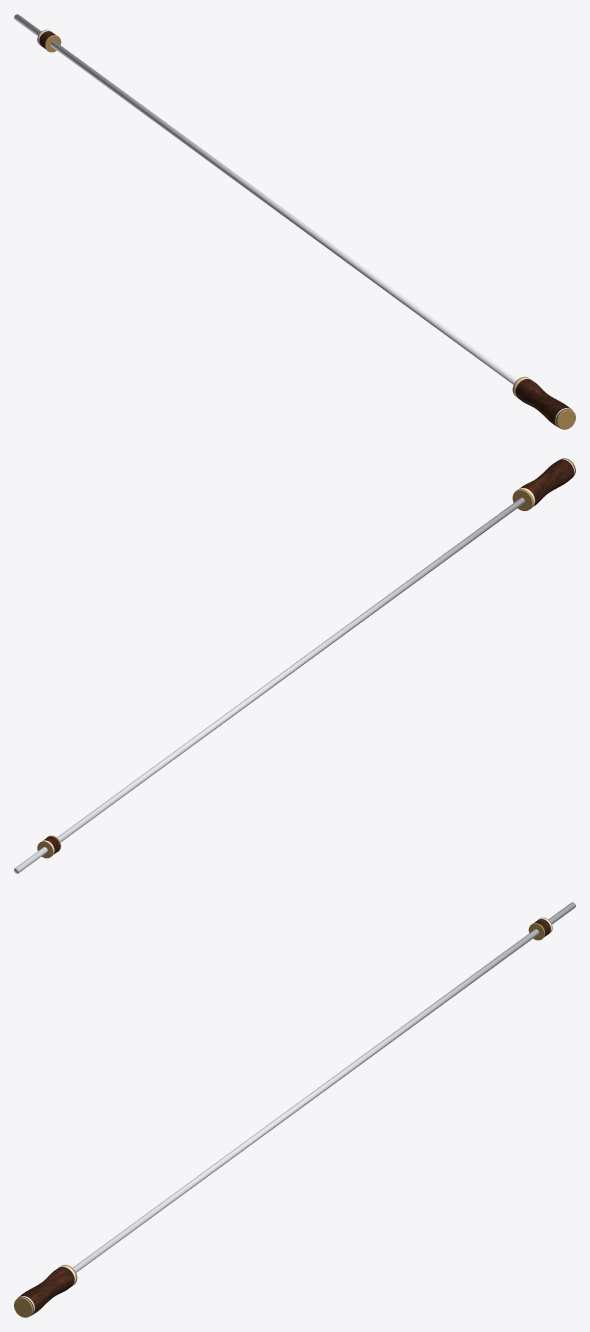
File: fuzeball_rod_2man.glb
3 views of the same model, one above another, from view 1: azimuth 30°, elevation 25°; view 2: azimuth 150°, elevation 25°; view 3: azimuth 330°, elevation 25° (orthographic).
Visible parts, largest first — view 1: rod2_bar.002, rod2_handle_walnut_grip; view 2: rod2_bar.002, rod2_handle_walnut_grip; view 3: rod2_bar.002, rod2_handle_walnut_grip.
Part boxes in pixels (x1,y1,x2,y2): rod2_bar.002: [14, 14, 516, 384]; rod2_handle_walnut_grip: [515, 379, 571, 427]; rod2_bar.002: [14, 497, 524, 873]; rod2_handle_walnut_grip: [520, 459, 574, 506]; rod2_bar.002: [73, 902, 575, 1272]; rod2_handle_walnut_grip: [18, 1267, 74, 1315].
Size of the model in its own units: 2.8 by 2.8 by 133.
Materials: 5 (1 with a texture image).
